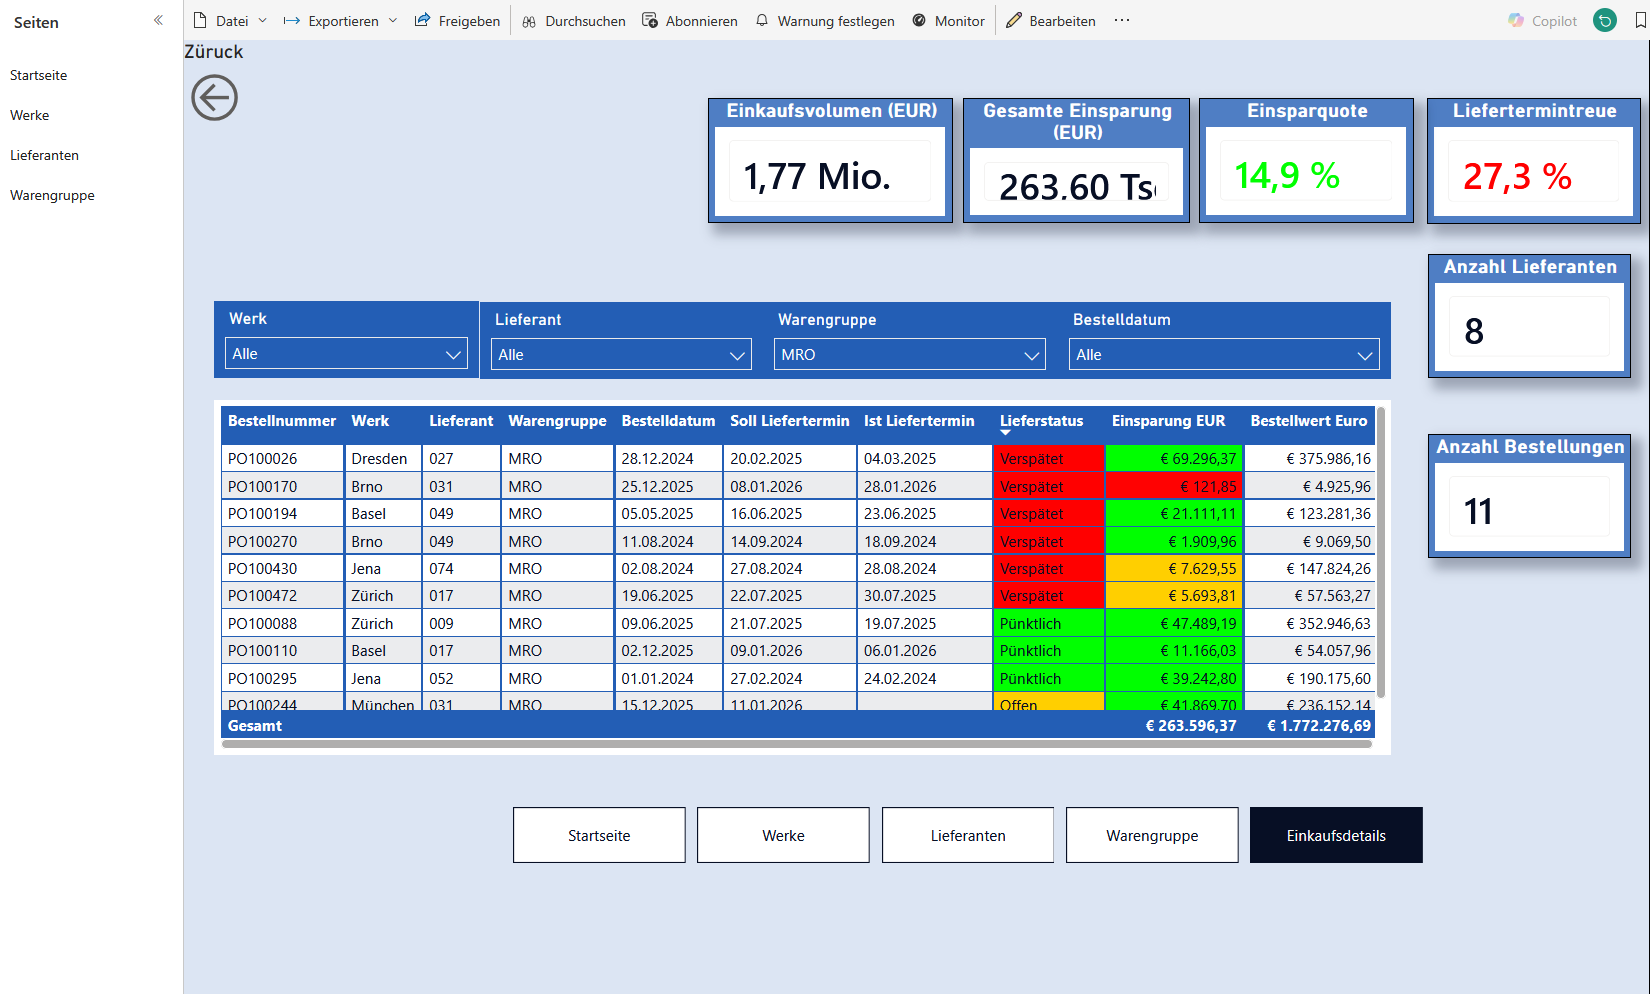

The page's visual inventory and layout, read from the dashboard file:
{"tool":"powerbi","page":{"name":"Einkaufsdetails","canvas":[1280,720],"ordinal":4},"visuals":[{"type":"cardVisual","title":"Liefertermintreue","fields":{"Data":["Einkaufsdaten.Liefertermintreue"]},"box":[1086.4,50.6,186.7,109.9],"z":1000},{"type":"cardVisual","title":"Einkaufsvolumen (EUR)","fields":{"Data":["Einkaufsdaten.Gesamt Einkaufsvolumen EUR"]},"box":[458.2,50.9,213.6,109.1],"z":2000},{"type":"cardVisual","title":"Gesamte Einsparung (EUR)","fields":{"Data":["Einkaufsdaten.Gesamte Einsparung"]},"box":[680.9,50.6,198.4,108.9],"z":3000},{"type":"cardVisual","title":"Einsparquote","fields":{"Data":["Einkaufsdaten.Einsparquote"]},"box":[887.1,50.6,187.7,108.9],"z":4000},{"type":"tableEx","fields":{"Values":["Einkaufsdaten.Bestellnummer","Einkaufsdaten.Werk","Einkaufsdaten.Lieferant","Einkaufsdaten.Warengruppe","Einkaufsdaten.Bestelldatum","Einkaufsdaten.Soll_Liefertermin","Einkaufsdaten.Ist_Liefertermin","Einkaufsdaten.Lieferstatus","Sum(Einkaufsdaten.Einsparung EUR)","Sum(Einkaufsdaten.Bestellwert Euro)"]},"box":[26.1,314.7,1028.8,309.7],"z":5000},{"type":"slicer","fields":{"Values":["Einkaufsdaten.Werk"]},"box":[26.4,228.2,231.8,67.3],"z":6000},{"type":"slicer","fields":{"Values":["Einkaufsdaten.Lieferant"]},"box":[258.7,228.9,247.5,67.2],"z":7000},{"type":"slicer","fields":{"Values":["Einkaufsdaten.Warengruppe"]},"box":[506.3,228.9,257.5,67.2],"z":8000},{"type":"slicer","fields":{"Values":["Einkaufsdaten.Bestelldatum"]},"box":[763.8,228.9,291.1,67.2],"z":9000},{"type":"actionButton","title":"Züruck","box":[0,0,100,76.7],"z":10000},{"type":"pageNavigator","box":[287.4,670.2,799.9,49.8],"z":11000},{"type":"cardVisual","title":"Anzahl Lieferanten","fields":{"Data":["Einkaufsdaten.Anzahl Lieferanten"]},"box":[1086.8,186.6,177,108.4],"z":12000},{"type":"cardVisual","title":"Anzahl Bestellungen","fields":{"Data":["Einkaufsdaten.Anzahl Bestellungen"]},"box":[1086.8,344.4,177,108.4],"z":13000}]}

Visuals, with their boxes on the page's 1280x720 design canvas (x1, y1, x2, y2). These are canvas units, not pixel positions in the 1650x994 screenshot, which may show the page scaled, cropped or inside an application window:
"Liefertermintreue" cardVisual: {"x1": 1086, "y1": 51, "x2": 1273, "y2": 160}
"Einkaufsvolumen (EUR)" cardVisual: {"x1": 458, "y1": 51, "x2": 672, "y2": 160}
"Gesamte Einsparung (EUR)" cardVisual: {"x1": 681, "y1": 51, "x2": 879, "y2": 160}
"Einsparquote" cardVisual: {"x1": 887, "y1": 51, "x2": 1075, "y2": 160}
tableEx - Einkaufsdaten.Bestellnummer x Einkaufsdaten.Werk: {"x1": 26, "y1": 315, "x2": 1055, "y2": 624}
slicer - Einkaufsdaten.Werk: {"x1": 26, "y1": 228, "x2": 258, "y2": 296}
slicer - Einkaufsdaten.Lieferant: {"x1": 259, "y1": 229, "x2": 506, "y2": 296}
slicer - Einkaufsdaten.Warengruppe: {"x1": 506, "y1": 229, "x2": 764, "y2": 296}
slicer - Einkaufsdaten.Bestelldatum: {"x1": 764, "y1": 229, "x2": 1055, "y2": 296}
"Züruck" actionButton: {"x1": 0, "y1": 0, "x2": 100, "y2": 77}
pageNavigator: {"x1": 287, "y1": 670, "x2": 1087, "y2": 720}
"Anzahl Lieferanten" cardVisual: {"x1": 1087, "y1": 187, "x2": 1264, "y2": 295}
"Anzahl Bestellungen" cardVisual: {"x1": 1087, "y1": 344, "x2": 1264, "y2": 453}
